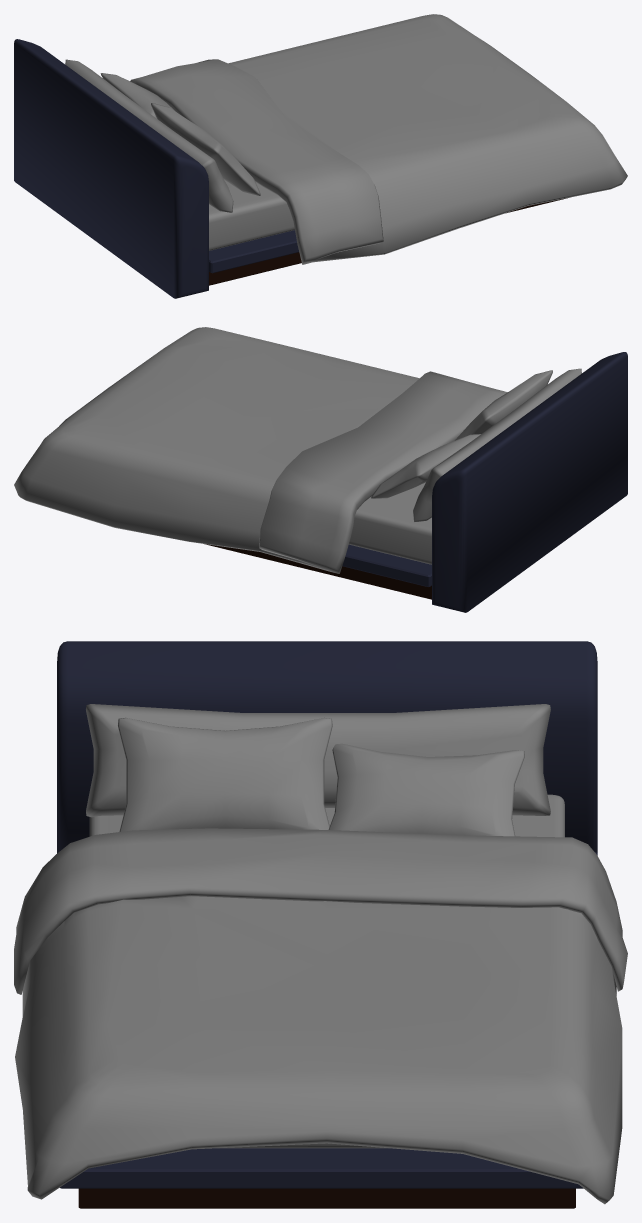
The model's file is h-005_bed_02_F.FBX.
The picture shows the model from 3 angles, top to bottom: view 1: azimuth 30°, elevation 25°; view 2: azimuth 150°, elevation 25°; view 3: azimuth 270°, elevation 25°; orthographic projection. The views are drawn at different scales.
Visible parts, largest first — view 1: h-005_bedding, h-005_bed_02_frame, h-005_mattress; view 2: h-005_bedding, h-005_bed_02_frame, h-005_mattress; view 3: h-005_bedding, h-005_bed_02_frame, h-005_mattress.
Boxes of the visible parts, x1,y1,x2,y2 form: h-005_bedding: (130,14,627,264); h-005_bed_02_frame: (14,39,567,298); h-005_mattress: (65,59,294,250); h-005_bedding: (14,327,507,573); h-005_bed_02_frame: (204,352,627,612); h-005_mattress: (349,368,581,564); h-005_bedding: (14,828,627,1204); h-005_bed_02_frame: (57,641,597,1208); h-005_mattress: (86,704,564,1148).
Bounding box in the file's own units: 39.08 × 11.84 × 28.4.
